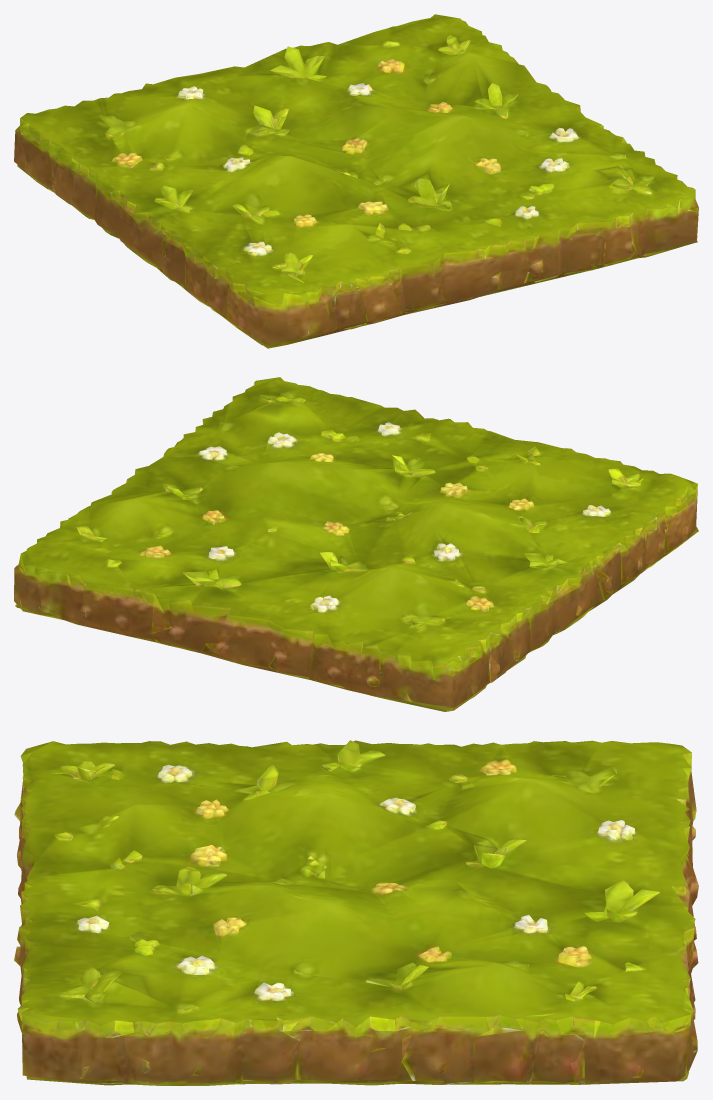
Rendered from grass-patch.glb.
The picture shows the model from 3 angles, top to bottom: view 1: azimuth 30°, elevation 25°; view 2: azimuth 150°, elevation 25°; view 3: azimuth 270°, elevation 25°; orthographic projection. The views are drawn at different scales.
Parts seen in each view (by area): view 1: Mesh1.0; view 2: Mesh1.0; view 3: Mesh1.0.
Boxes of the visible parts, left/top/right/bottom form: Mesh1.0: left=14, top=14, right=698, bottom=348; Mesh1.0: left=14, top=377, right=698, bottom=711; Mesh1.0: left=14, top=740, right=698, bottom=1085.
Size of the model in its own units: 1.9 by 0.322 by 1.89.
Materials: 1 (1 with a texture image).
